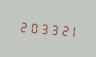one: (68, 21, 77, 39)
three: (38, 19, 47, 36), (48, 20, 57, 37)
two: (17, 17, 26, 35), (58, 20, 67, 38)
zero: (27, 18, 36, 36)
